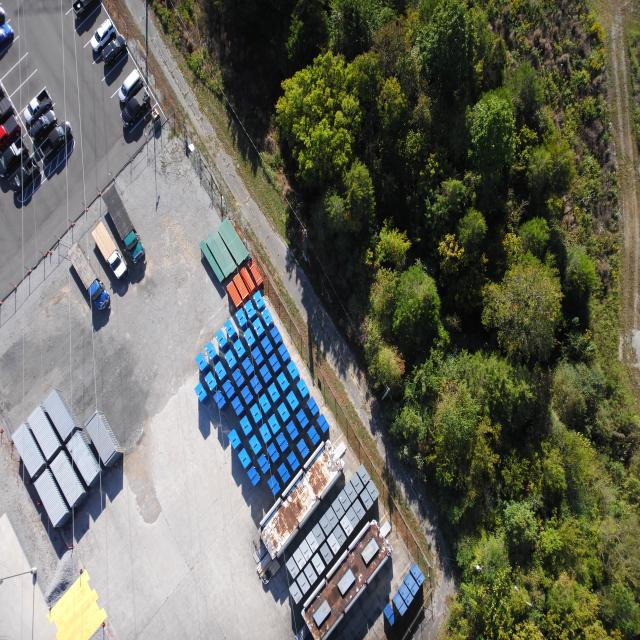Area of Interest: (226, 2, 637, 635)
